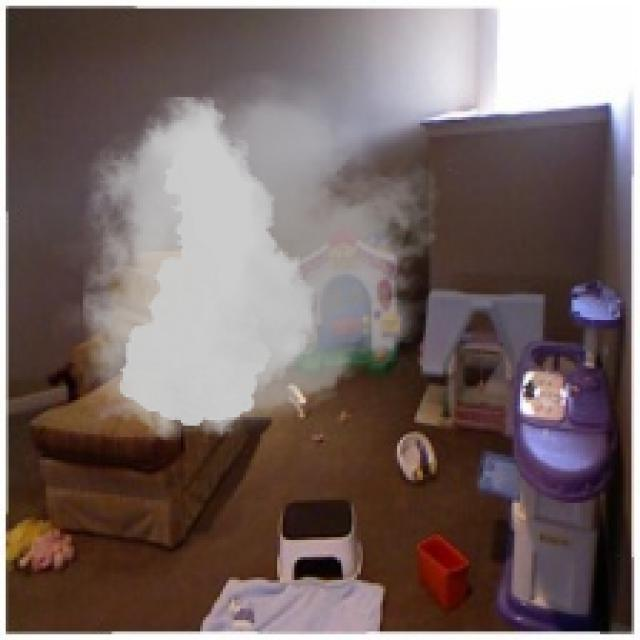Smoke: (51, 71, 460, 452)
